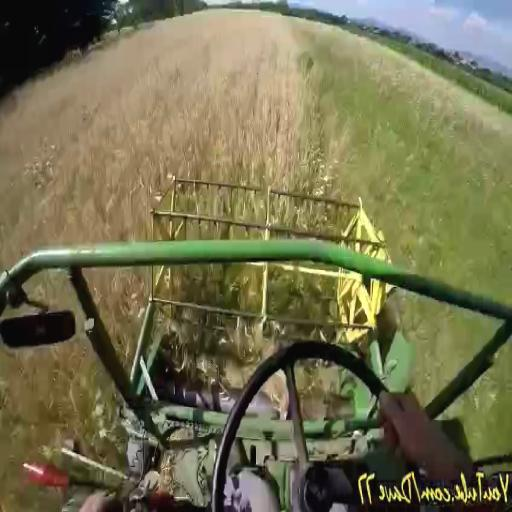bugday: (1, 11, 512, 303), (403, 295, 498, 404), (446, 338, 512, 456)
